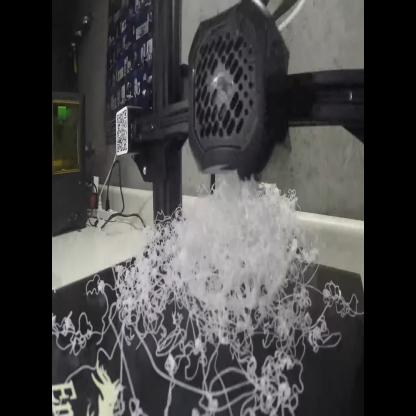fail: (55, 184, 367, 416)
